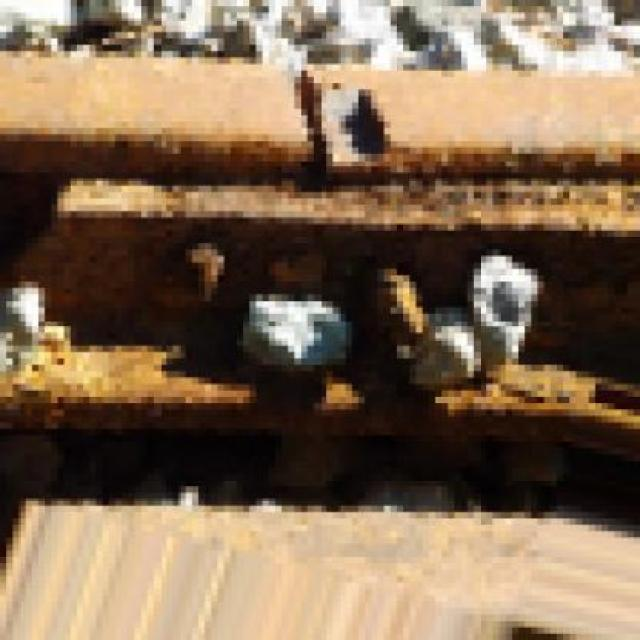defective: (4, 24, 640, 526)
